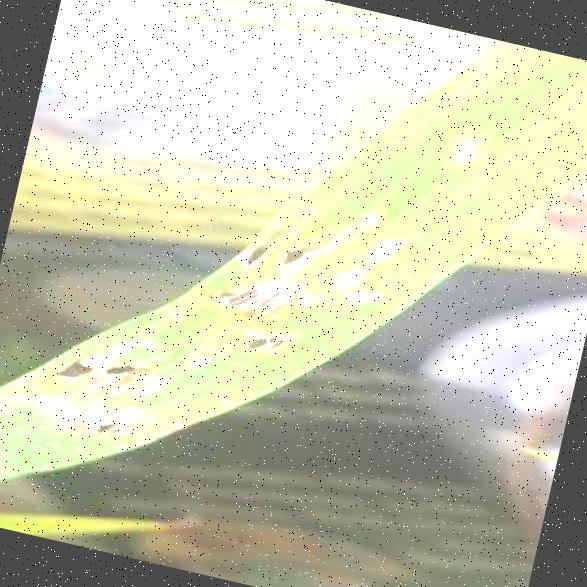Leaf_smut: (243, 186, 378, 293), (46, 296, 162, 411), (34, 373, 150, 488), (202, 258, 304, 330), (216, 308, 302, 376)
